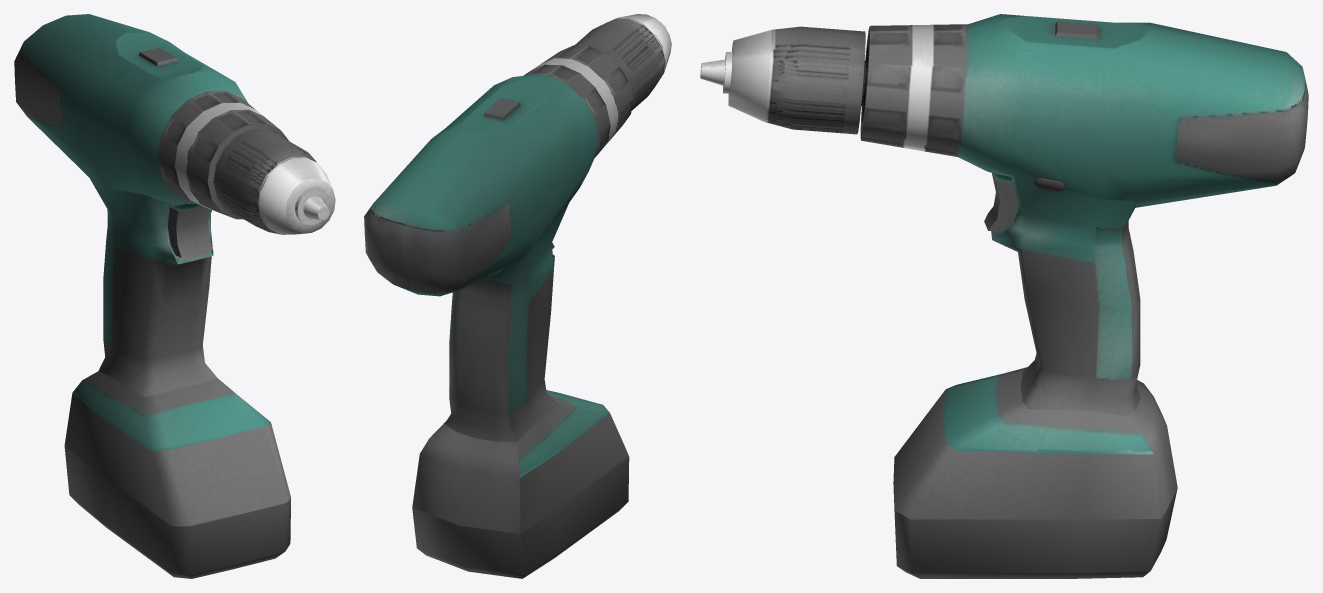
File: perceuse-electrique.glb
The picture shows the model from 3 angles, left to right: view 1: azimuth 30°, elevation 25°; view 2: azimuth 150°, elevation 25°; view 3: azimuth 270°, elevation 25°; orthographic projection. The views are drawn at different scales.
Size of the model in its own units: 6.94 by 25.87 by 27.01.
Materials: 2 (1 with a texture image).
